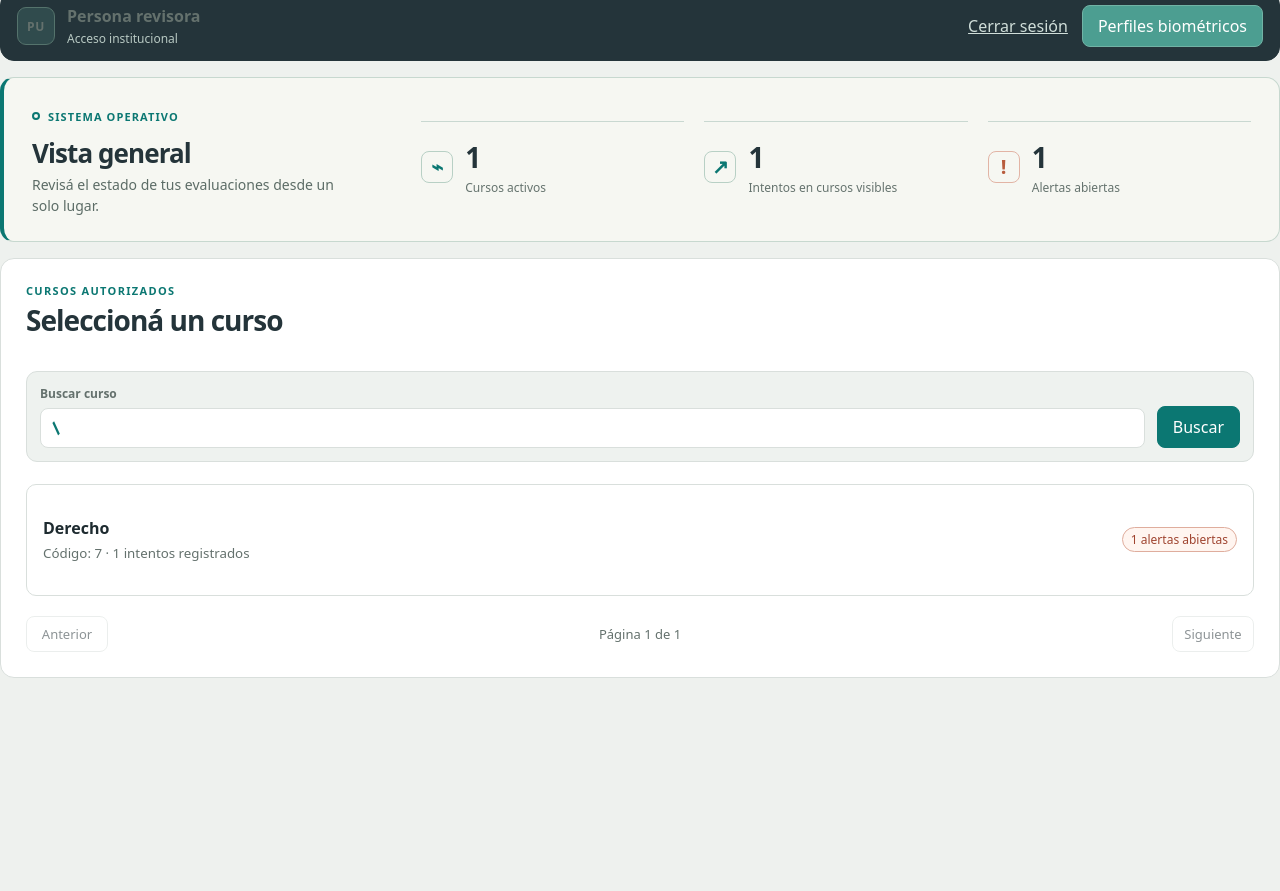
shows control level and explainable behavior risk for an attempt
Click the button "Derecho" at coordinates (76, 528), box 26,484 -> 1254,596
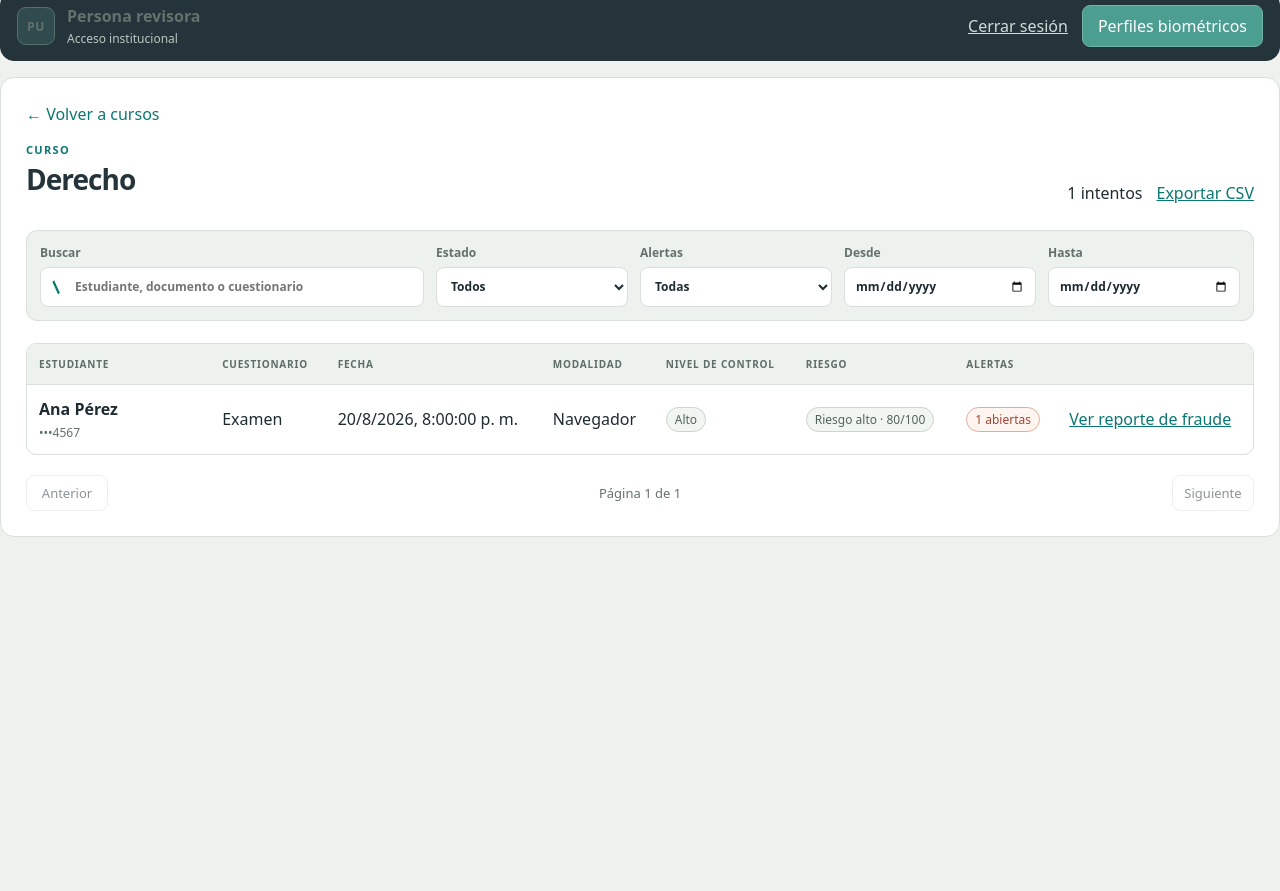
Result: the text "Riesgo alto · 80/100" is shown at 806,406 -> 934,432
Result: the button "Ver reporte de fraude" is shown at 1069,404 -> 1231,434
Result: the column heading "Estudiante" is shown at 27,344 -> 210,384
Click the button "Ana Pérez •••4567" at coordinates (119, 419), box 39,398 -> 198,440
(page scrolled)
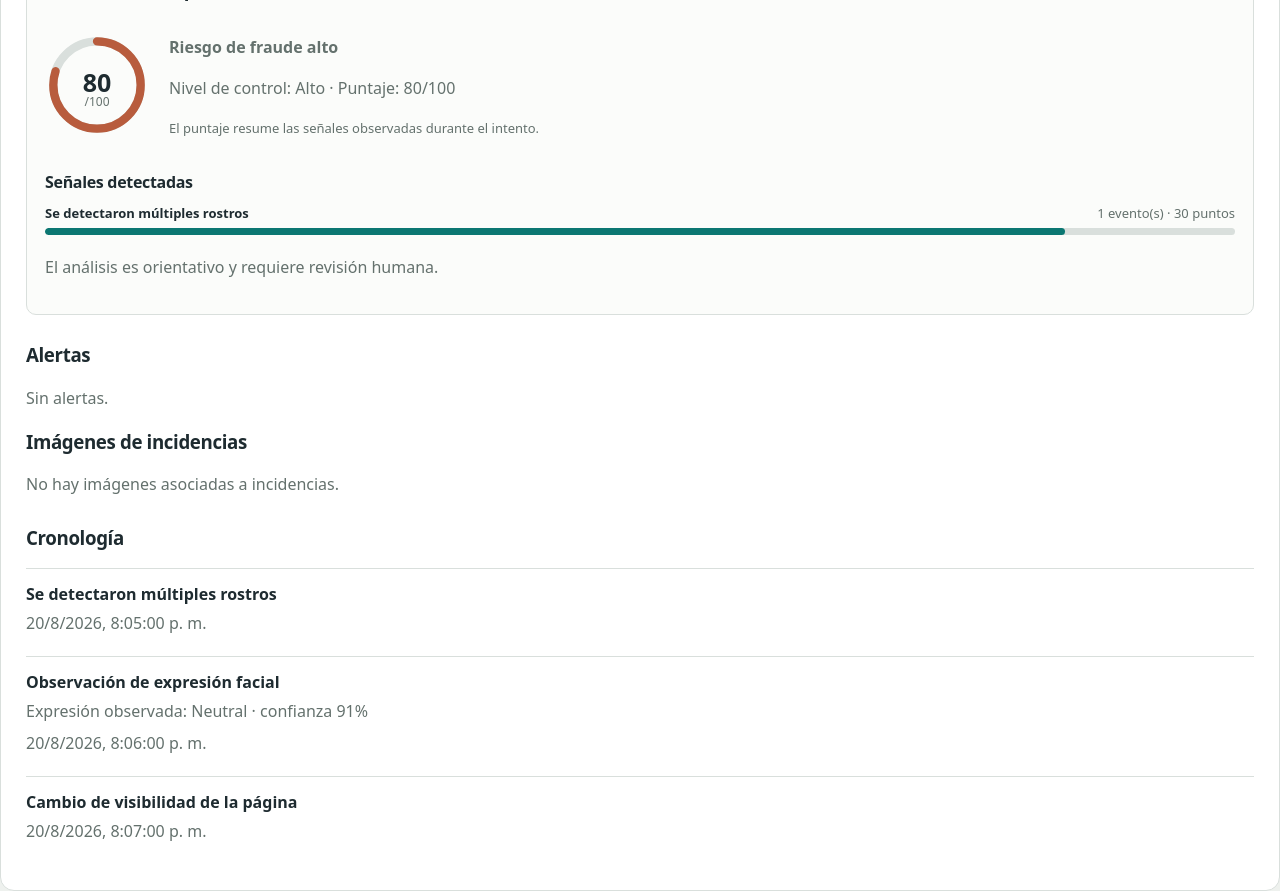
Result: the text "Riesgo de fraude alto" is shown at 169,36 -> 338,58
Result: the text "Nivel de control: Alto" is shown at 169,78 -> 325,100
Result: the text "Puntaje: 80/100" is shown at 338,78 -> 455,100
